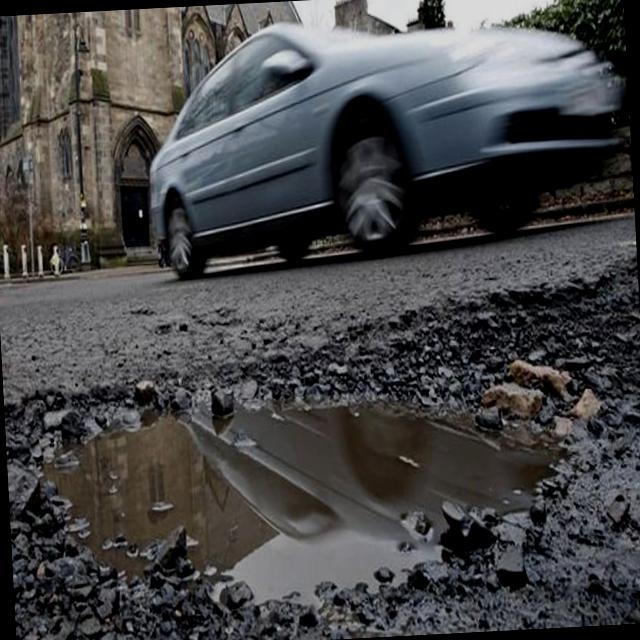bad-road: (1, 258, 640, 640)
